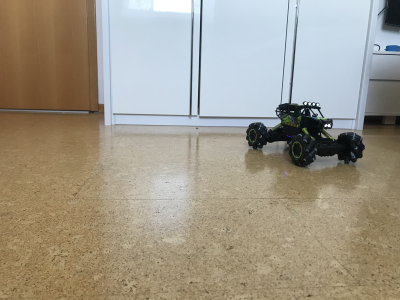remote control car: (244, 99, 367, 169)
